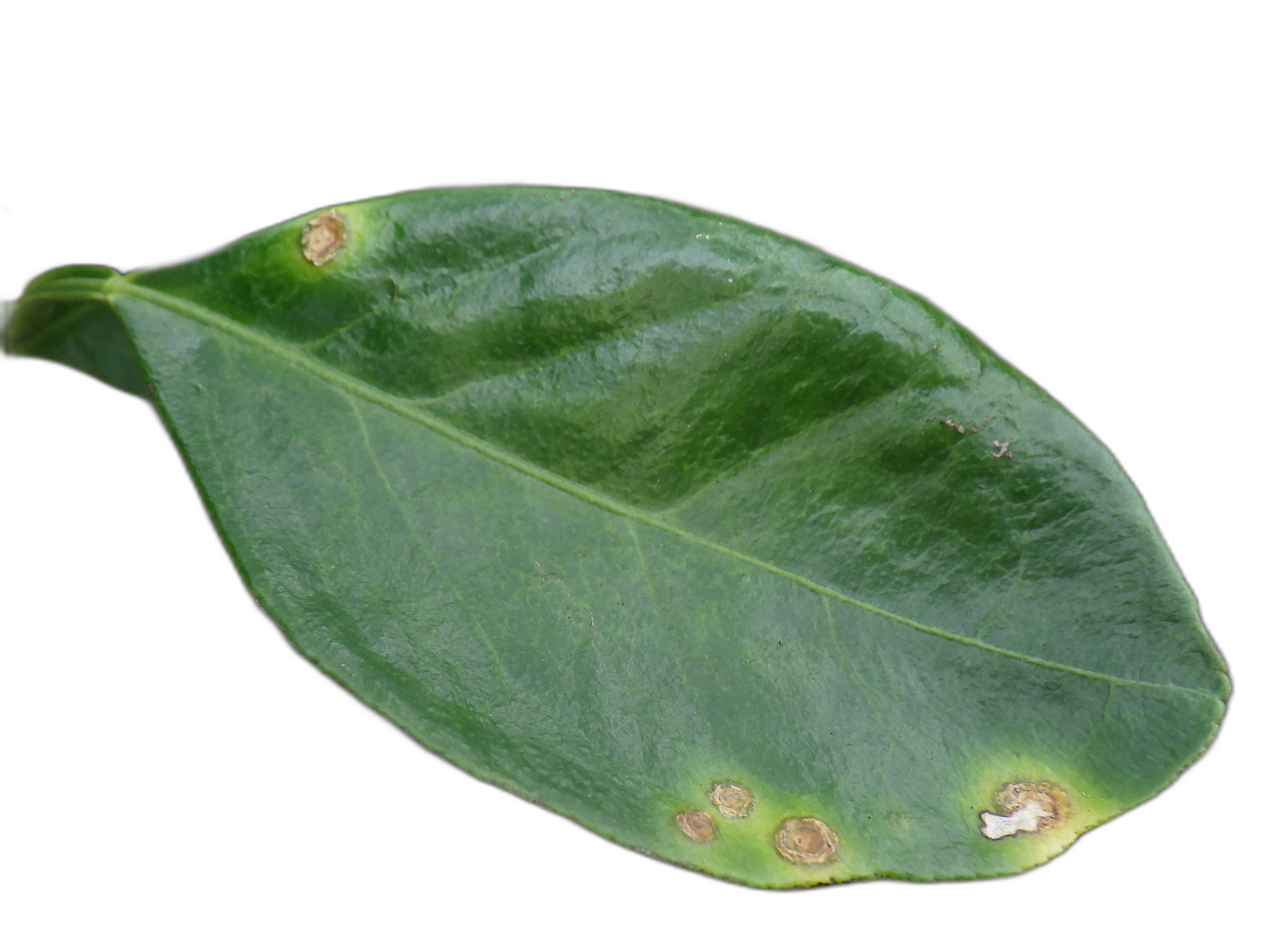Canker: (979, 782, 1068, 840), (772, 817, 838, 864), (301, 209, 346, 266), (708, 782, 755, 820), (676, 808, 716, 842), (675, 809, 715, 842)
